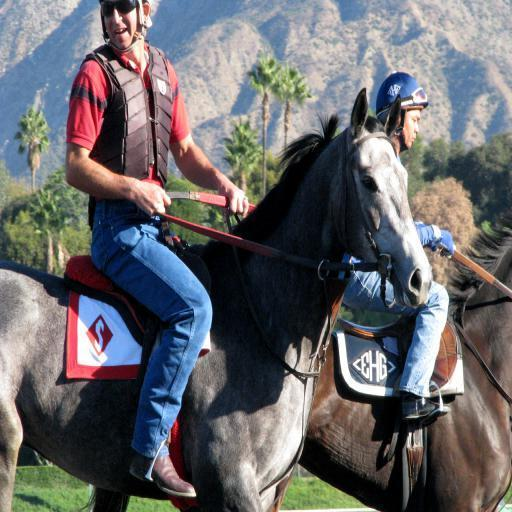horse: (0, 88, 432, 512), (81, 210, 512, 512)
